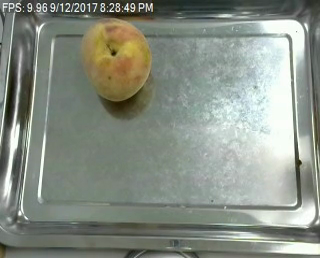Peach: (80, 17, 152, 101)
